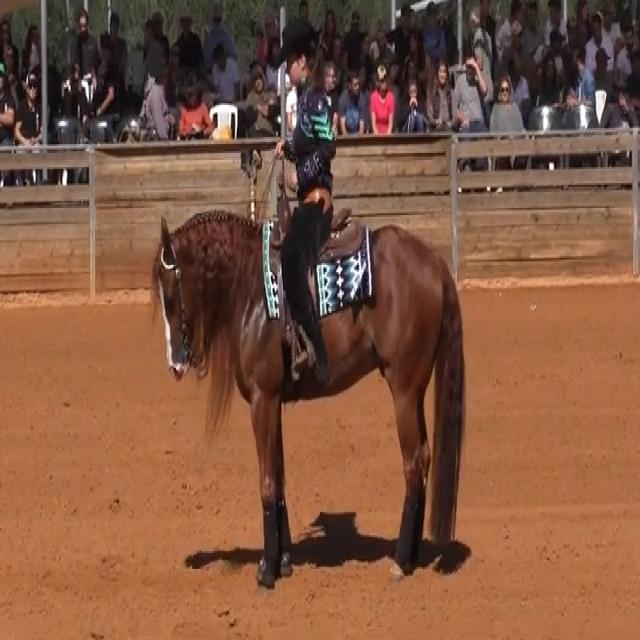horse: (148, 203, 468, 586)
